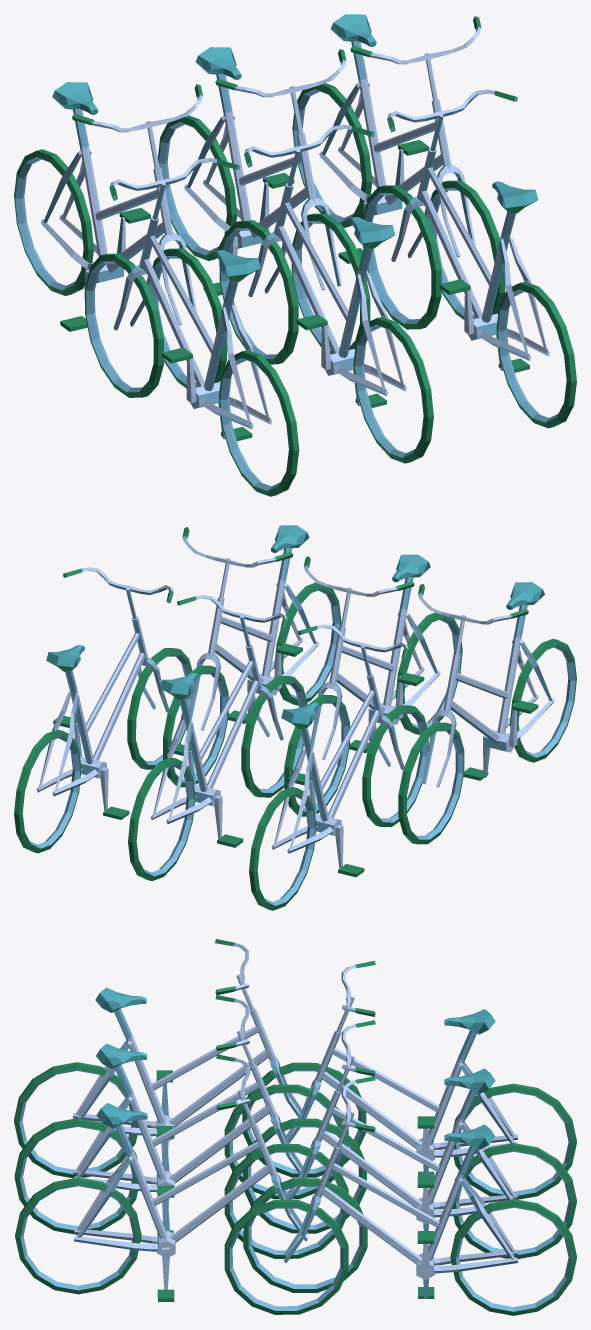
File: 6bikes.glb
3 renders of one model, top to bottom at view 1: azimuth 30°, elevation 25°; view 2: azimuth 150°, elevation 25°; view 3: azimuth 270°, elevation 25°, orthographic. The views are drawn at different scales.
Visible parts, largest first — view 1: bike_body_dummyProp_0.005, bike_body_dummyProp_0.008, bike_body_dummyProp_0.007, bike_body_dummyProp_0.003, bike_body_dummyProp_0.001, bike_body, bike_tyre1_dummyProp_0.008, bike_tyre2_dummyProp_0.005, bike_tyre2_dummyProp_0.008, bike_tyre2_dummyProp_0.007, bike_tyre2_dummyProp_0.003, bike_tyre1_dummyProp_0.005 (+18 smaller); view 2: bike_body_dummyProp_0.001, bike_body, bike_body_dummyProp_0.003, bike_body_dummyProp_0.008, bike_body_dummyProp_0.007, bike_body_dummyProp_0.005, bike_tyre1_dummyProp_0.008, bike_tyre2, bike_tyre2_dummyProp_0.001, bike_tyre2_dummyProp_0.003, bike_tyre2_dummyProp_0.008, bike_tyre1_dummyProp_0.003 (+17 smaller); view 3: bike_body_dummyProp_0.005, bike_body_dummyProp_0.001, bike_body_dummyProp_0.007, bike_body, bike_body_dummyProp_0.003, bike_body_dummyProp_0.008, bike_tyre1_dummyProp_0.001, bike_tyre2_dummyProp_0.005, bike_tyre2_dummyProp_0.001, bike_tyre1_dummyProp_0.005, bike_tyre2_dummyProp_0.007, bike_tyre2 (+13 smaller).
Part boxes in pixels (x1,y1,x2,y2): bike_body_dummyProp_0.005: [417, 147, 549, 360]; bike_body_dummyProp_0.008: [139, 216, 271, 429]; bike_body_dummyProp_0.007: [274, 183, 406, 395]; bike_body_dummyProp_0.003: [41, 82, 172, 282]; bike_body_dummyProp_0.001: [319, 14, 451, 215]; bike_body: [184, 47, 316, 248]; bike_tyre1_dummyProp_0.008: [84, 253, 163, 397]; bike_tyre2_dummyProp_0.005: [496, 281, 576, 428]; bike_tyre2_dummyProp_0.008: [218, 350, 299, 496]; bike_tyre2_dummyProp_0.007: [353, 317, 433, 463]; bike_tyre2_dummyProp_0.003: [14, 149, 93, 295]; bike_tyre1_dummyProp_0.005: [362, 185, 441, 329]; bike_body_dummyProp_0.001: [36, 616, 148, 796]; bike_body: [150, 644, 261, 824]; bike_body_dummyProp_0.003: [271, 674, 383, 853]; bike_body_dummyProp_0.008: [443, 582, 554, 752]; bike_body_dummyProp_0.007: [329, 554, 440, 724]; bike_body_dummyProp_0.005: [208, 525, 318, 695]; bike_tyre1_dummyProp_0.008: [398, 722, 464, 844]; bike_tyre2: [128, 757, 195, 880]; bike_tyre2_dummyProp_0.001: [14, 729, 81, 853]; bike_tyre2_dummyProp_0.003: [249, 787, 316, 910]; bike_tyre2_dummyProp_0.008: [510, 638, 576, 762]; bike_tyre1_dummyProp_0.003: [362, 705, 428, 827]; bike_body_dummyProp_0.005: [74, 1103, 277, 1256]; bike_body_dummyProp_0.001: [314, 1124, 518, 1279]; bike_body_dummyProp_0.007: [73, 1043, 277, 1194]; bike_body: [314, 1068, 517, 1223]; bike_body_dummyProp_0.003: [314, 1009, 518, 1160]; bike_body_dummyProp_0.008: [72, 987, 276, 1140]; bike_tyre1_dummyProp_0.001: [224, 1200, 348, 1314]; bike_tyre2_dummyProp_0.005: [15, 1177, 141, 1294]; bike_tyre2_dummyProp_0.001: [450, 1199, 576, 1315]; bike_tyre1_dummyProp_0.005: [243, 1178, 367, 1292]; bike_tyre2_dummyProp_0.007: [14, 1118, 138, 1234]; bike_tyre2: [452, 1143, 576, 1258].
Bounding box in the file's own units: 2.08 × 1.09 × 2.6.
10 materials, 10 textured.
